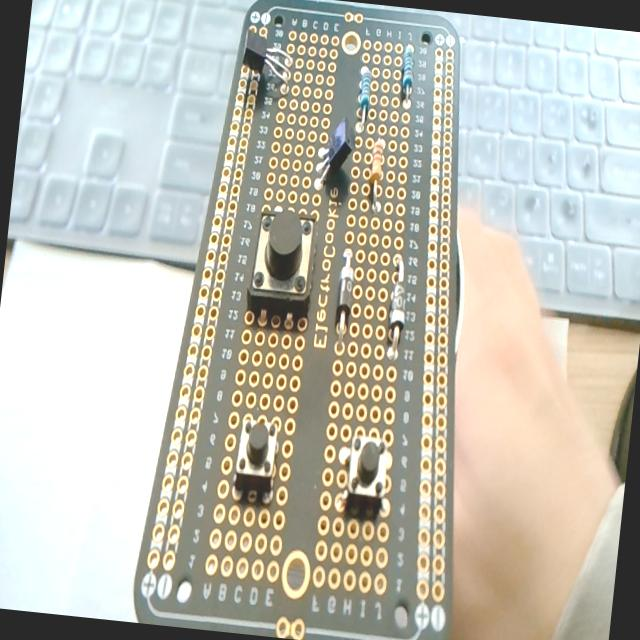diode: (383, 254, 412, 359), (332, 246, 356, 346)
resistor: (364, 138, 386, 212), (396, 42, 417, 106), (355, 63, 374, 127)
switch: (244, 202, 321, 330), (336, 431, 392, 518), (231, 414, 280, 502)
transistor: (238, 26, 294, 103), (310, 112, 356, 195)
